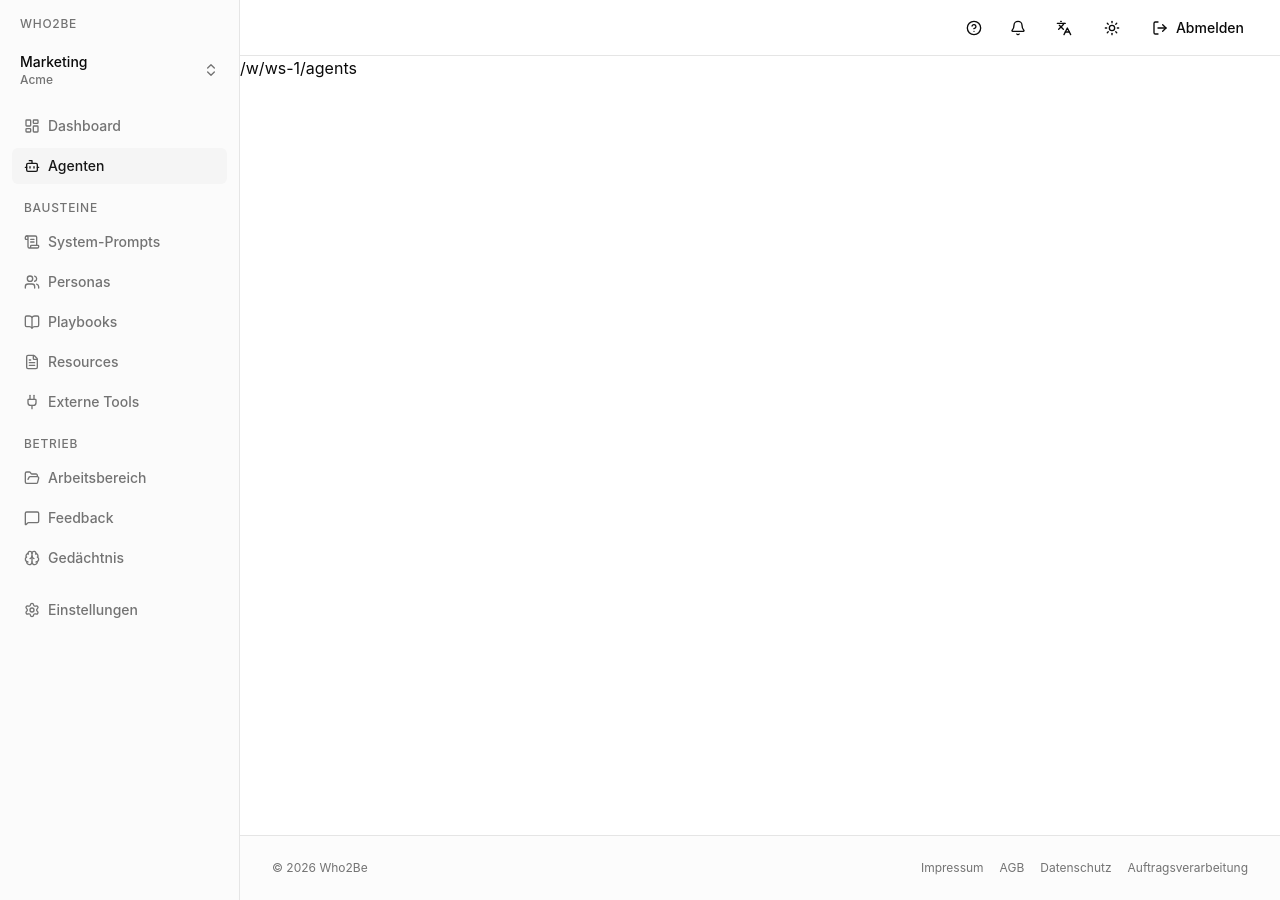
Test: HelpMenu › „Erste Schritte“ holt eine ausgeblendete Liste zurück und springt ins Dashboard
This screenshot has width=1280, height=900.
Press Enter in the button named "Hilfe und Neuigkeiten", box x1=956 y1=10 x2=992 y2=46
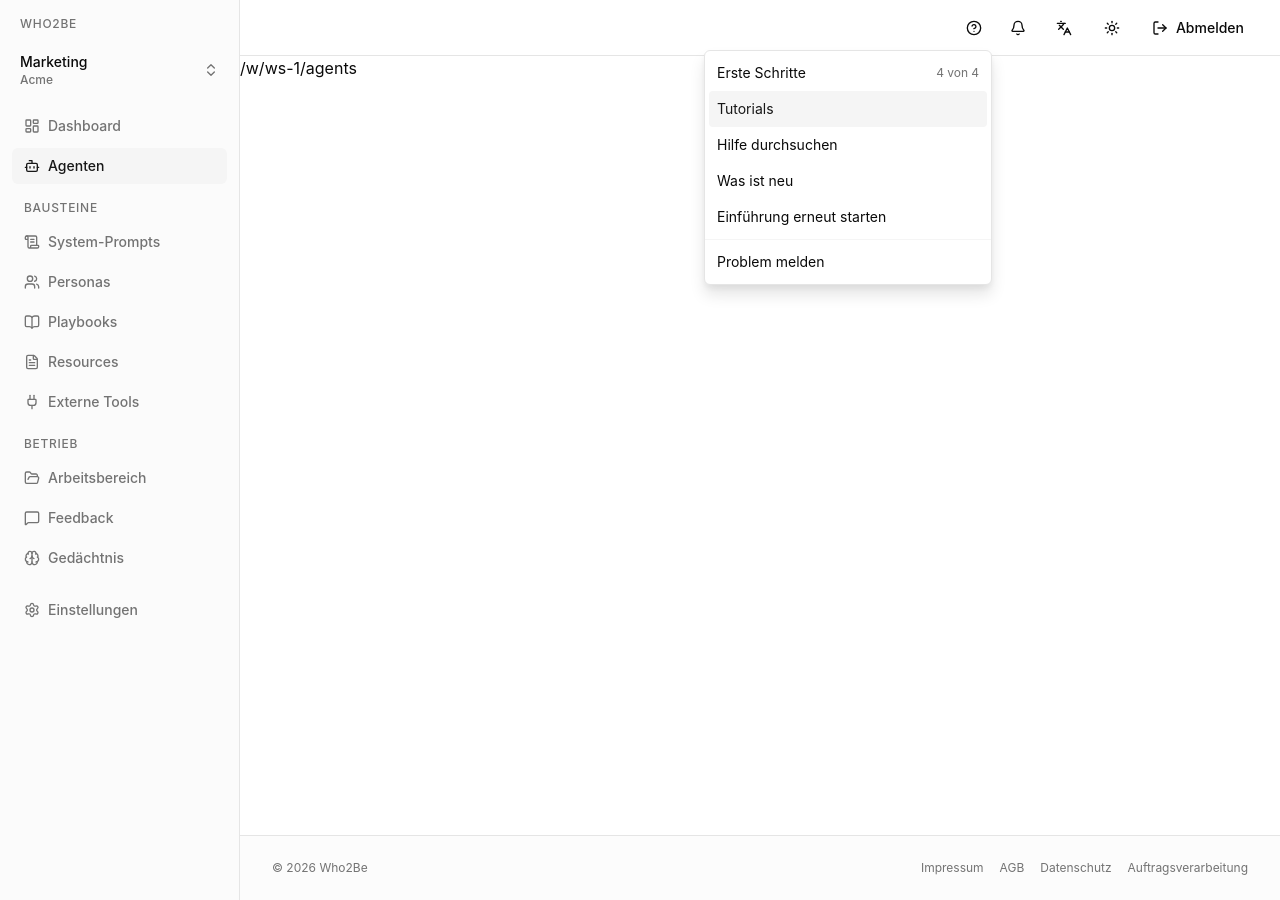
Click the menu item "Erste Schritte 4 von 4" at [761, 72], box x1=717 y1=64 x2=979 y2=81
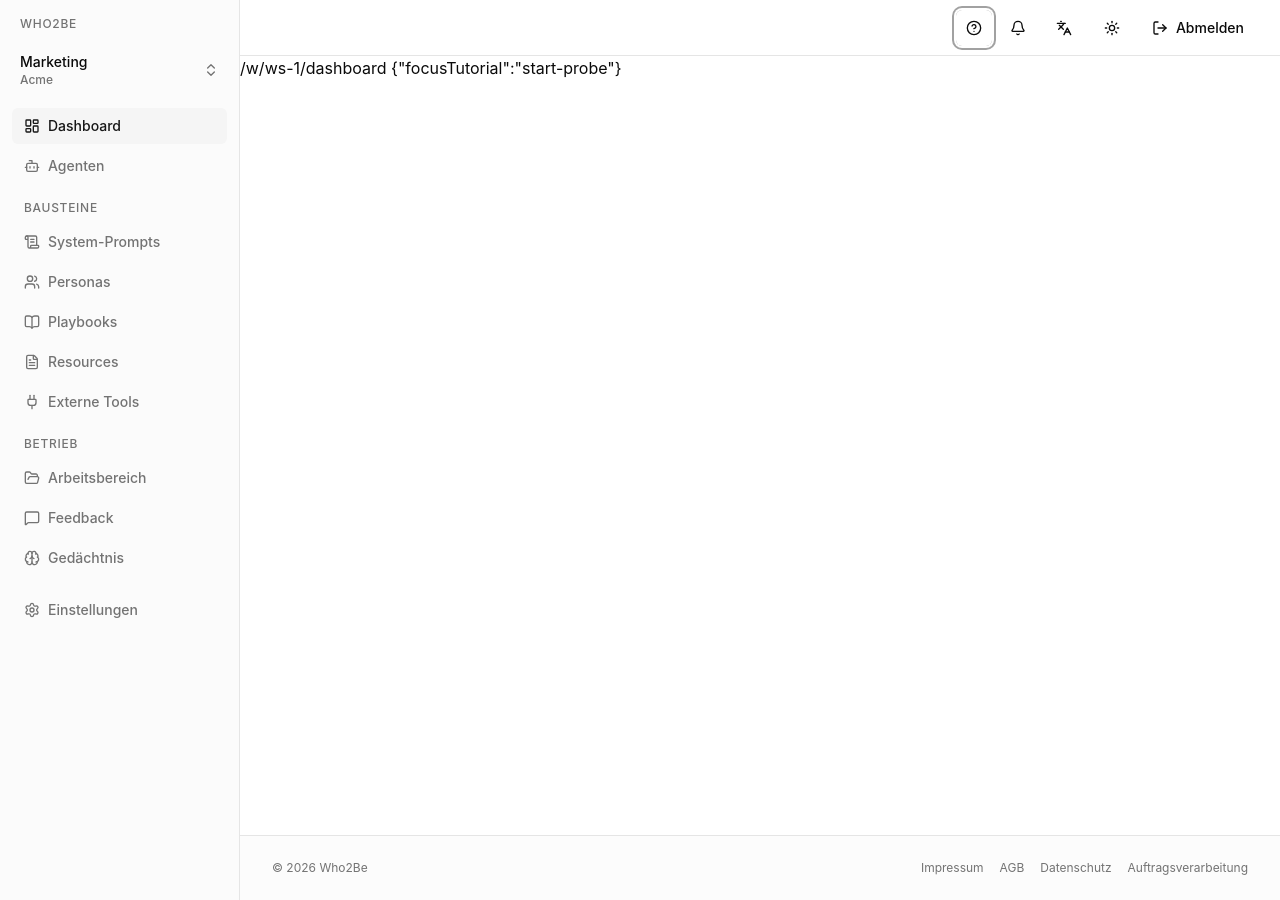
Check: the text with test id "location" reads "/w/ws-1/dashboard {\"focusTutorial\":\"start-probe\"}", box x1=240 y1=58 x2=622 y2=78
